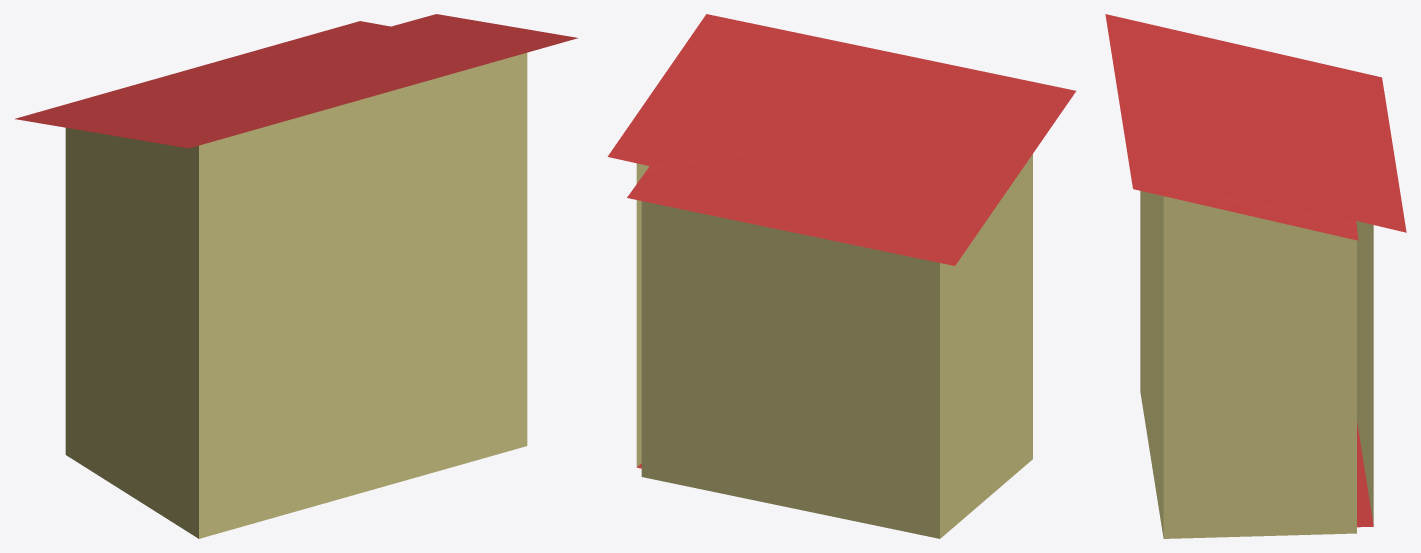
The picture shows the model from 3 angles, left to right: view 1: azimuth 30°, elevation 25°; view 2: azimuth 150°, elevation 25°; view 3: azimuth 270°, elevation 25°; orthographic projection. The views are drawn at different scales.
Visible parts, largest first — view 1: group_5, group_3, group_4; view 2: group_5, group_3, group_4; view 3: group_5, group_3, group_4, group_6.
Part boxes in pixels (x1,y1,x2,y2): group_5: (65, 53, 527, 538); group_3: (15, 14, 577, 148); group_4: (28, 19, 574, 123); group_5: (636, 154, 1032, 538); group_3: (607, 14, 1075, 265); group_4: (616, 14, 1049, 262); group_5: (1140, 191, 1373, 538); group_3: (1105, 14, 1406, 240); group_4: (1108, 28, 1405, 232); group_6: (1357, 422, 1373, 527).
Size of the model in its own units: 6.58 by 4.58 by 6.12.
